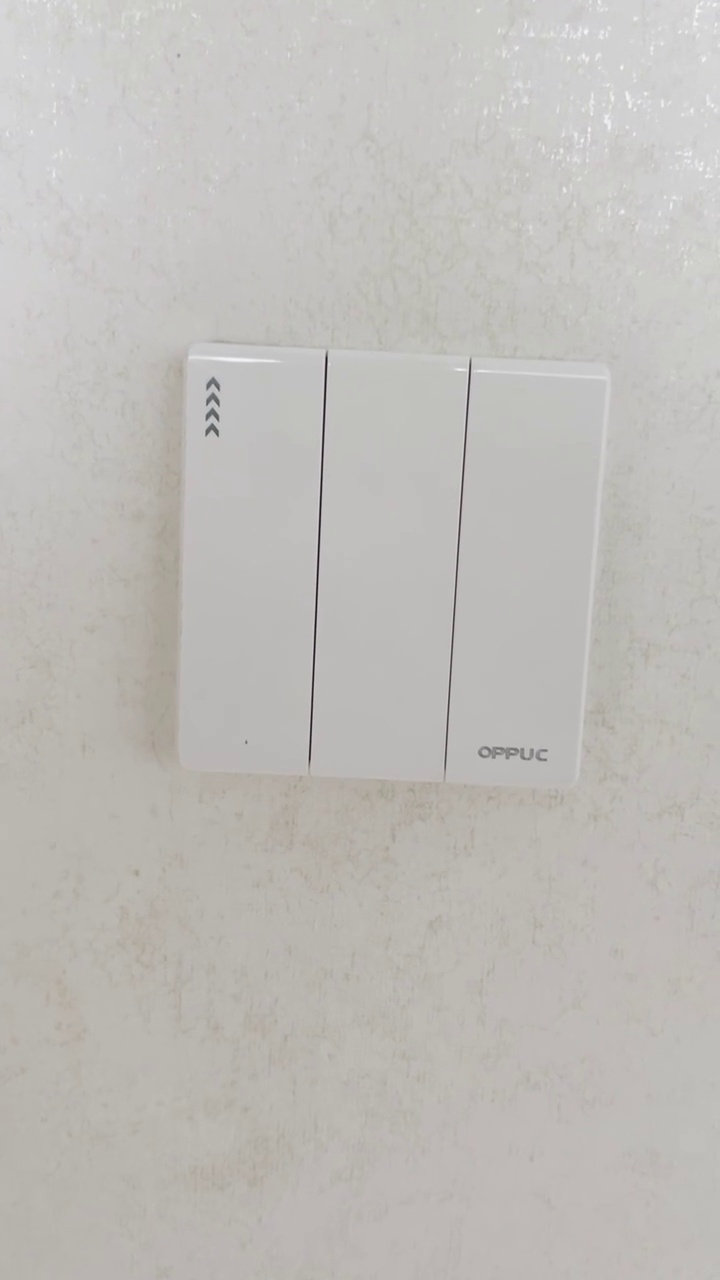button1: (311, 353, 463, 783), (449, 357, 593, 785), (190, 353, 323, 779)
